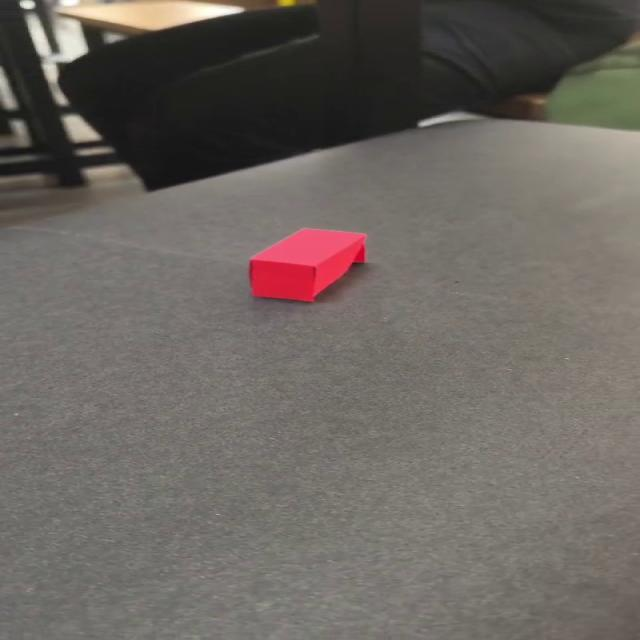red block: (246, 227, 366, 302)
